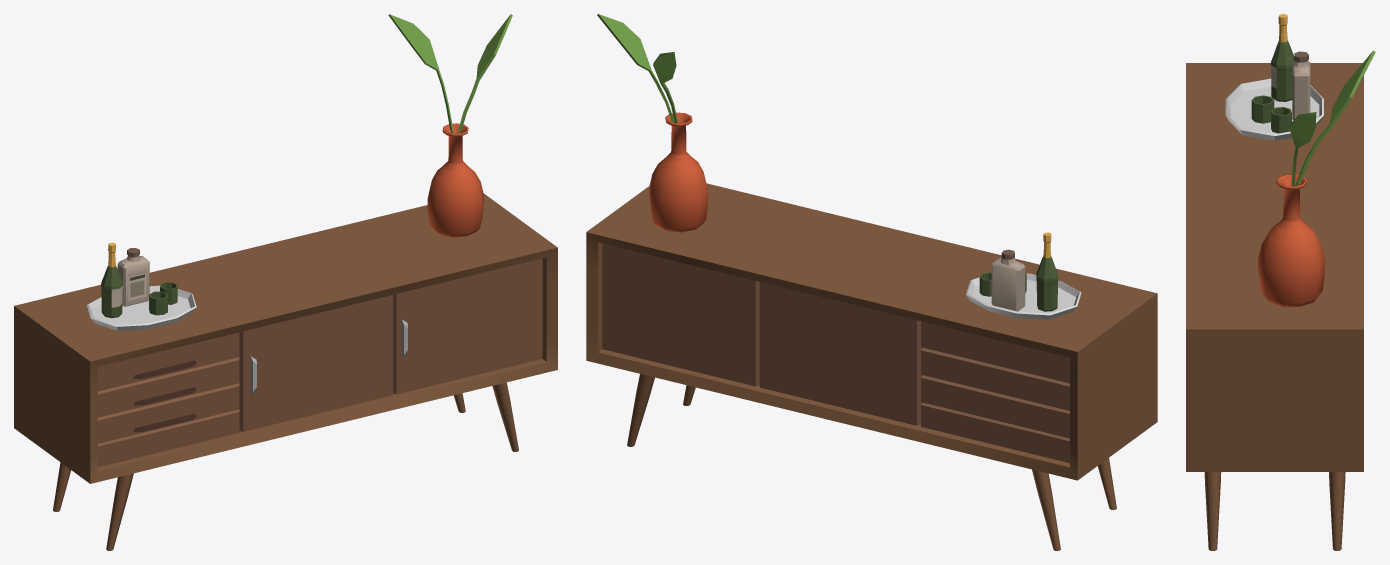
Rendered from Sideboard.fbx.
3 views of the same model, side by side, from view 1: azimuth 30°, elevation 25°; view 2: azimuth 150°, elevation 25°; view 3: azimuth 270°, elevation 25° (orthographic). The views are drawn at different scales.
Parts seen in each view (by area): view 1: Cube.244, Circle.006, Plane.014, Circle.003, Cube.277, Plane.037, Gold Top Bottle.001, Plane.016, Plane.039; view 2: Cube.244, Circle.006, Plane.014, Circle.003, Cube.277, Gold Top Bottle.001, Plane.039, Plane.037; view 3: Cube.244, Circle.006, Circle.003, Plane.014, Gold Top Bottle.001, Plane.037, Cube.277, Plane.039, Circle.004, Circle.005.
Part boxes in pixels (x1,y1,x2,y2): Cube.244: (14, 193, 557, 483); Circle.006: (427, 123, 483, 237); Plane.014: (53, 382, 518, 550); Circle.003: (86, 285, 196, 330); Cube.277: (117, 248, 149, 306); Plane.037: (388, 14, 453, 133); Gold Top Bottle.001: (101, 242, 123, 318); Plane.016: (133, 360, 196, 431); Plane.039: (457, 14, 512, 133); Cube.244: (586, 183, 1157, 480); Circle.006: (649, 112, 708, 232); Plane.014: (627, 374, 1116, 550); Circle.003: (966, 273, 1081, 319); Cube.277: (991, 249, 1025, 311); Gold Top Bottle.001: (1036, 232, 1058, 311); Plane.039: (597, 14, 674, 122); Plane.037: (653, 52, 678, 123); Cube.244: (1186, 63, 1363, 471); Circle.006: (1258, 174, 1324, 306); Circle.003: (1225, 78, 1323, 140); Plane.014: (1204, 472, 1345, 550); Gold Top Bottle.001: (1270, 14, 1294, 101); Plane.037: (1295, 50, 1375, 186); Cube.277: (1292, 51, 1310, 120); Plane.039: (1289, 112, 1316, 190); Circle.004: (1251, 95, 1274, 123); Circle.005: (1271, 107, 1291, 133).
Bounding box in the file's own units: 10287 × 3030 × 8221.
